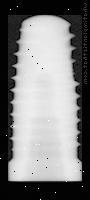Biomet 3i: (2, 13, 82, 183)
